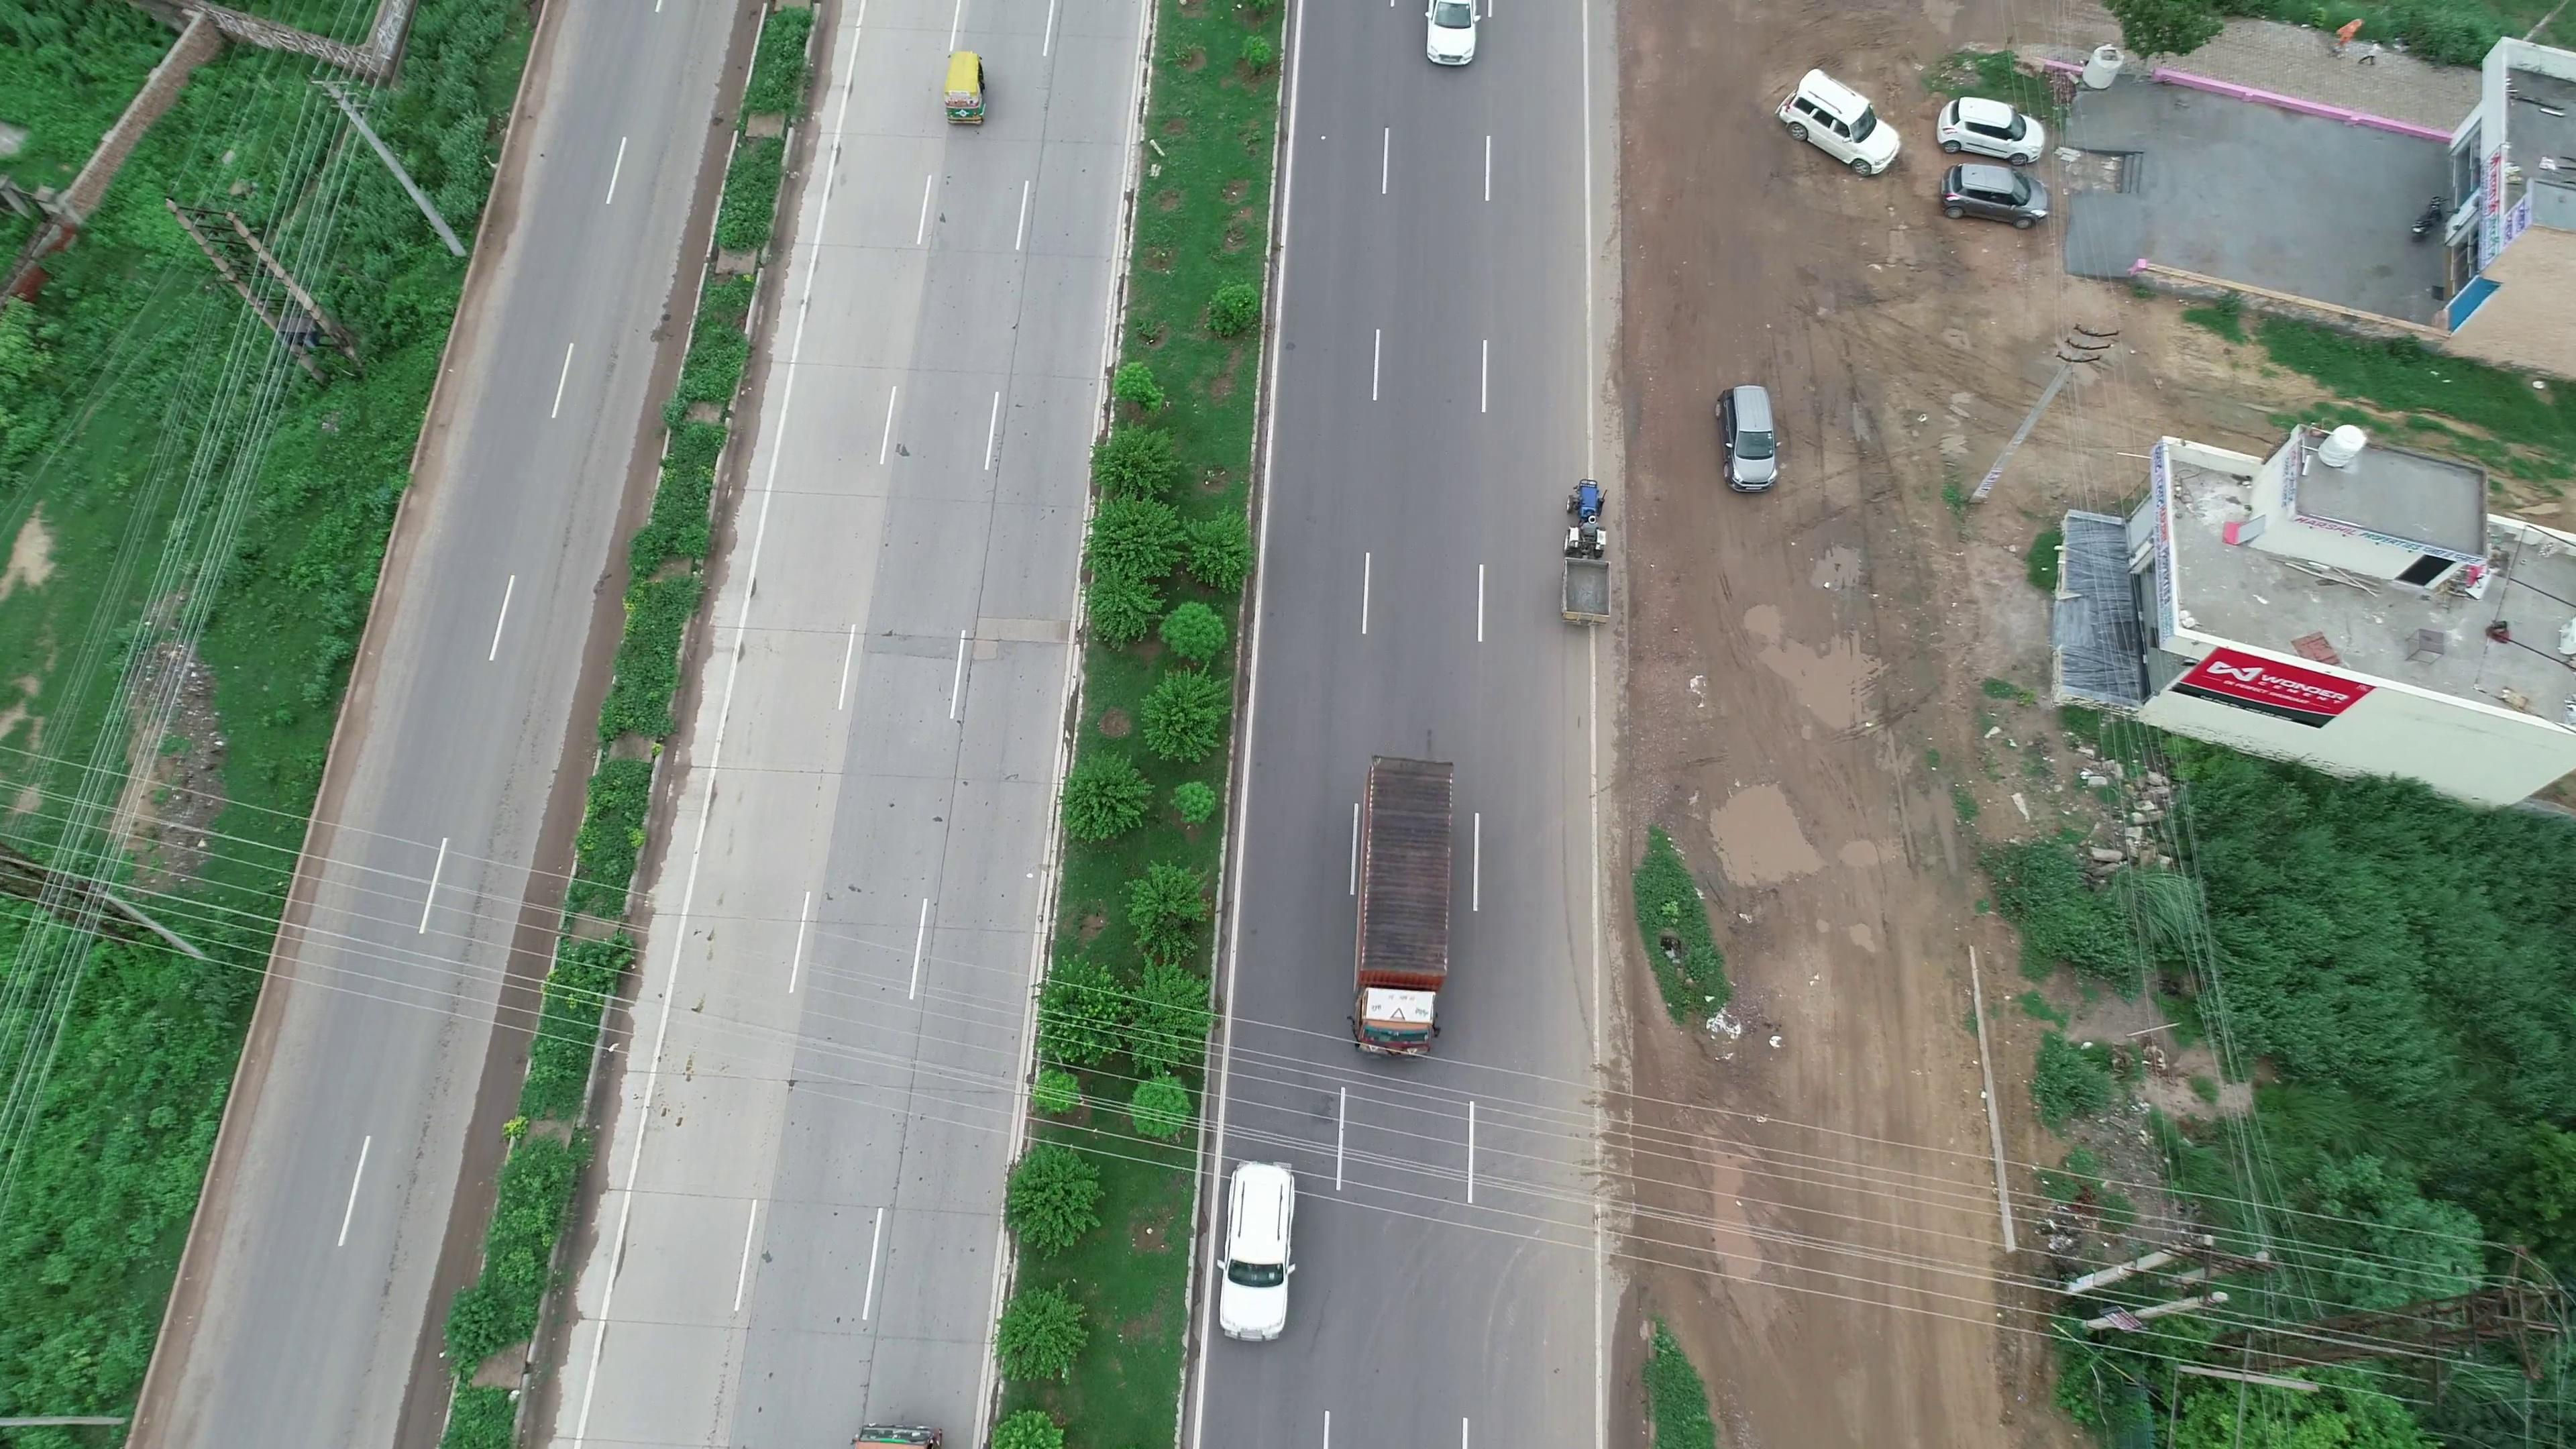Muddy_road: (1651, 925, 1976, 1444), (1628, 11, 1826, 343)
Waterlogging: (1668, 554, 1881, 897)
